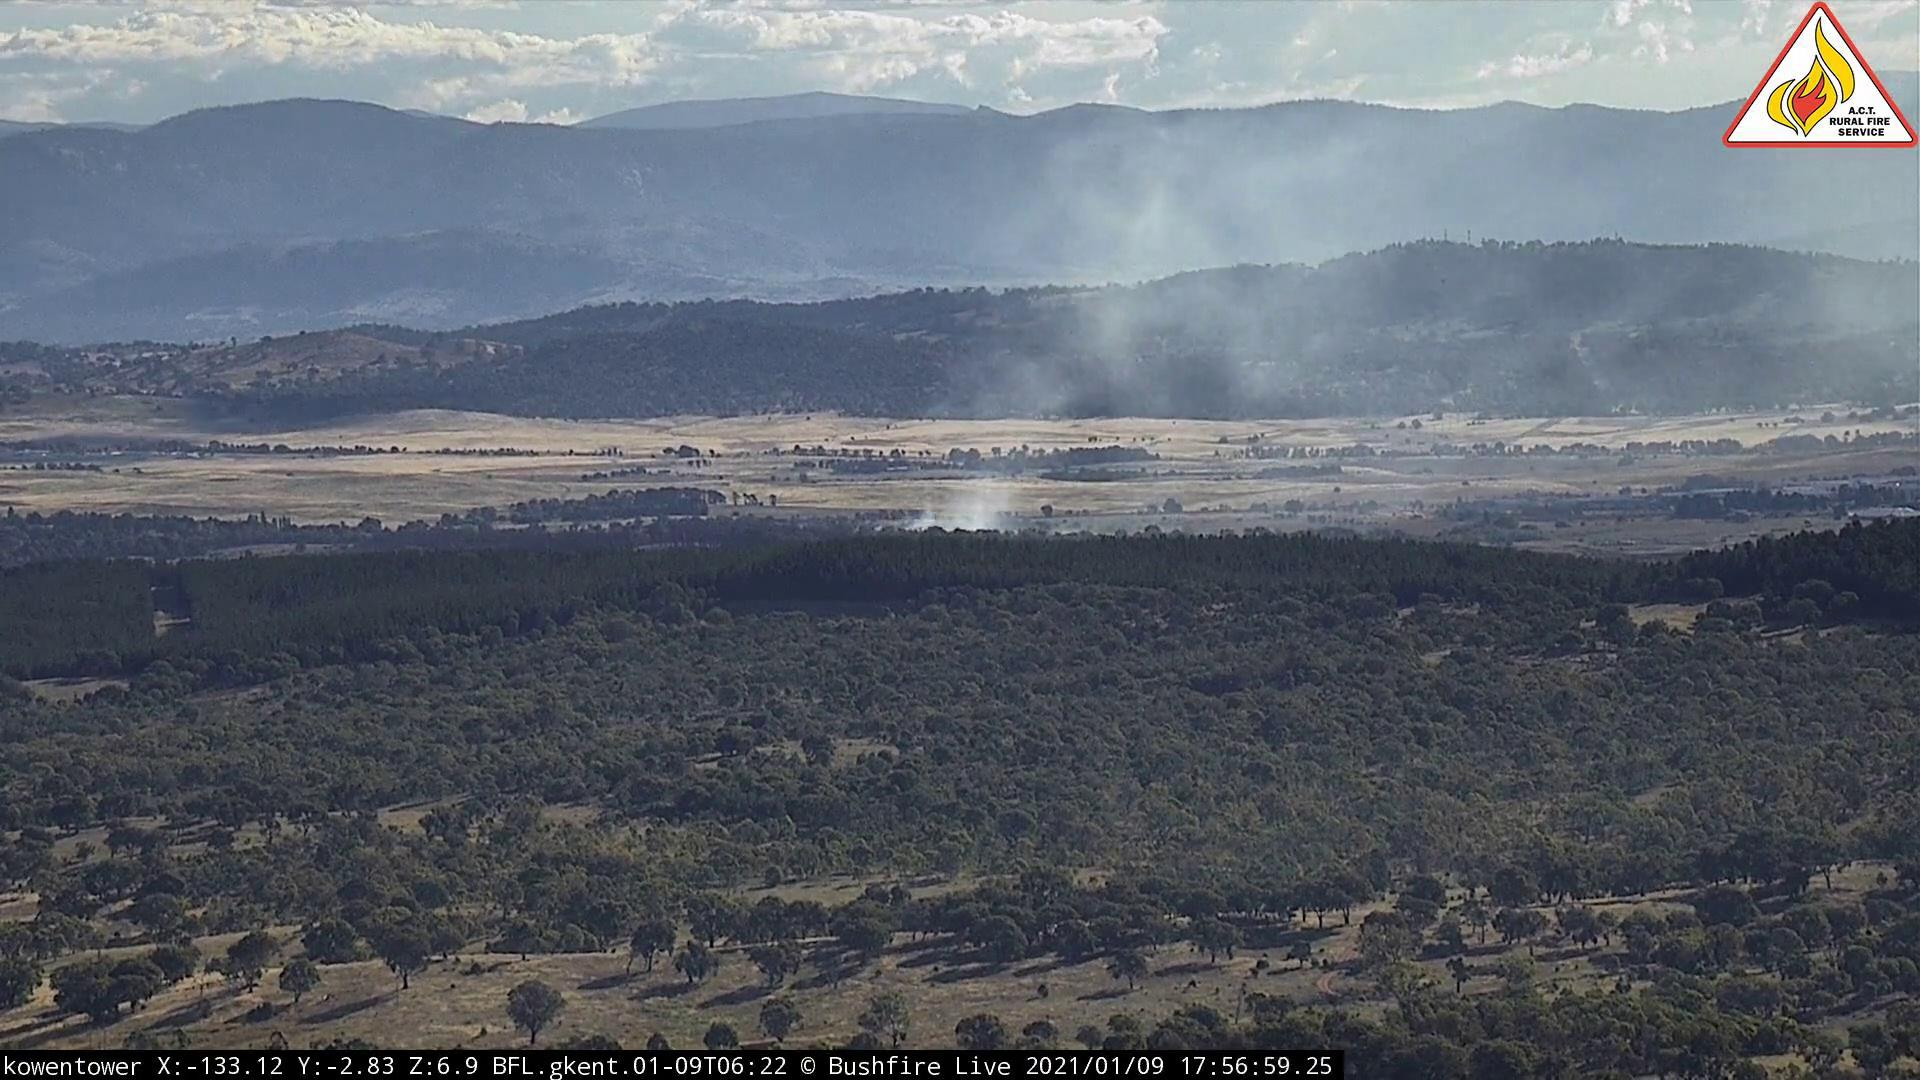Smoke: (899, 109, 1716, 542)
